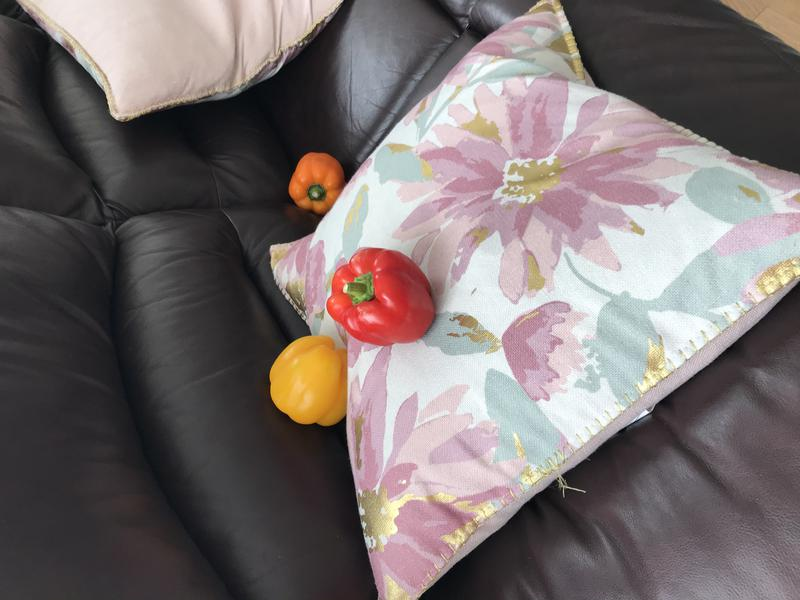orange_pepper: (284, 145, 355, 217)
red_pepper: (323, 246, 447, 352)
yellow_pepper: (259, 329, 362, 436)
